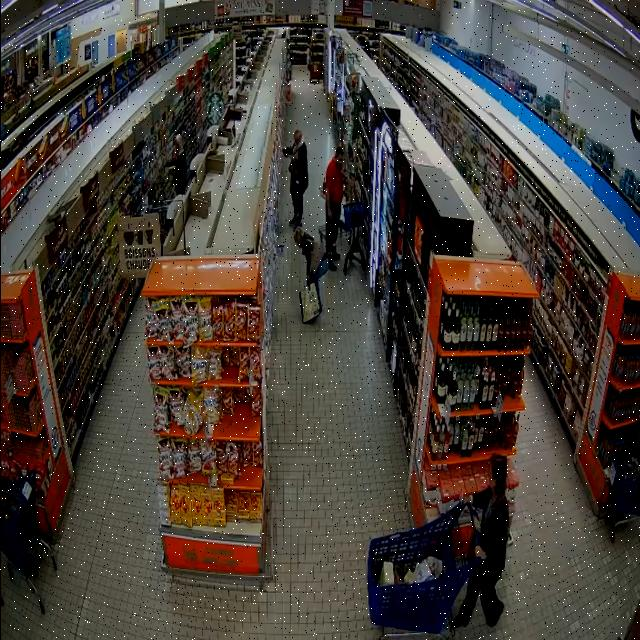article: (167, 165, 177, 176)
bags: (300, 282, 322, 323), (309, 237, 326, 272)
hands: (475, 546, 487, 560), (462, 496, 472, 506), (327, 207, 332, 220), (171, 172, 179, 176)
person: (453, 457, 508, 628), (325, 147, 344, 270), (284, 131, 308, 226), (294, 226, 328, 283), (166, 135, 187, 195)
